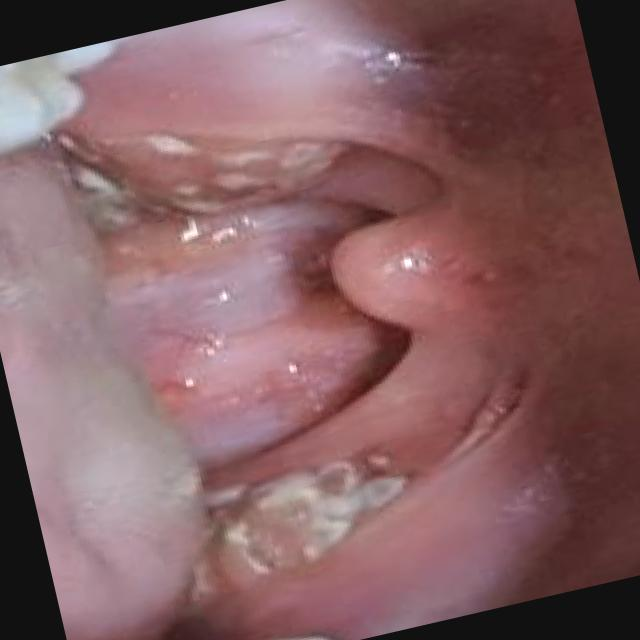pharyngitis: (88, 69, 360, 253), (178, 417, 428, 589)
